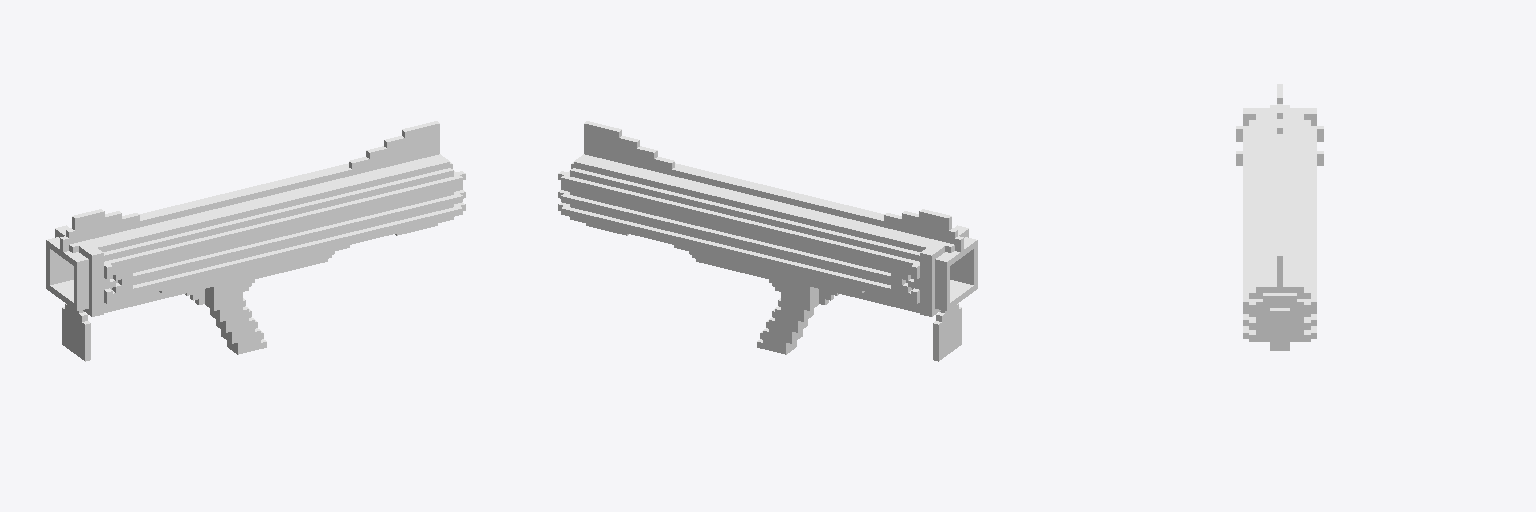
Rendered from SC_RPG.obj.
The picture shows the model from 3 angles: view 1: azimuth 30°, elevation 25°; view 2: azimuth 150°, elevation 25°; view 3: azimuth 270°, elevation 25°; orthographic projection.
Bounding box in the file's own units: 66 × 29 × 13.